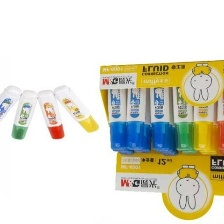correction_fluid: (51, 84, 99, 133), (168, 68, 195, 151), (147, 66, 173, 152), (123, 68, 149, 150), (191, 67, 216, 152), (106, 67, 131, 152), (8, 87, 39, 141), (36, 88, 67, 141), (0, 82, 22, 129), (215, 67, 223, 150)
